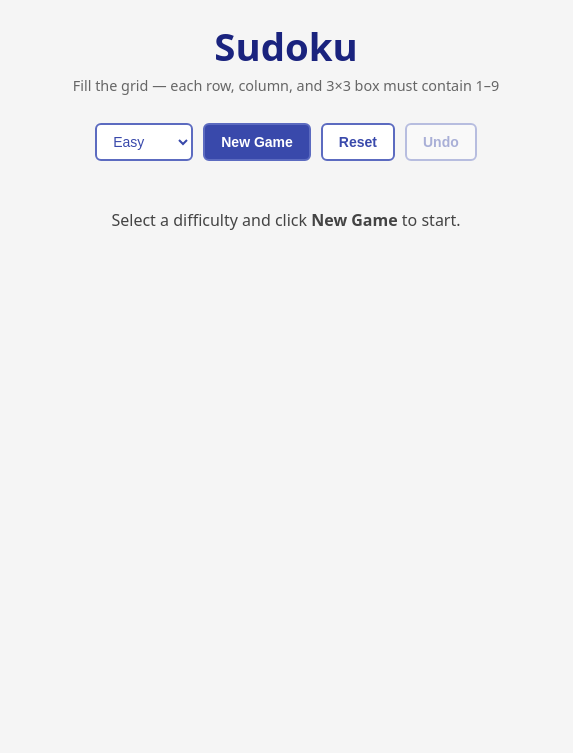
Test case: Undo reverts the last move › cell B is cleared after undo; cell A retains its value
The image size is (573, 753).
Note: Start a new game and wait for the grid to appear.
Click the button "New Game" at (257, 142), box [203,123,311,161]
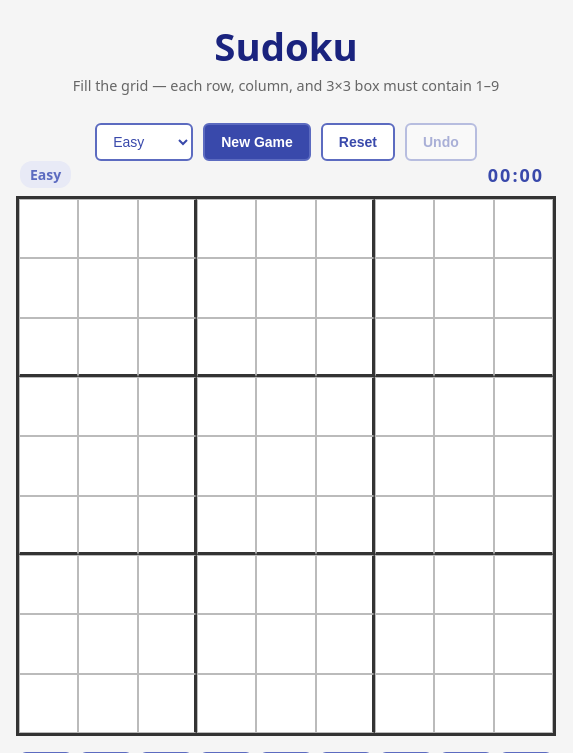
Note: Select cell A (Row 1, Col 1) and enter 5.
Click the cell named "Row 1 Column 1 empty" at (49, 229), box [19,199,78,258]
(page scrolled)
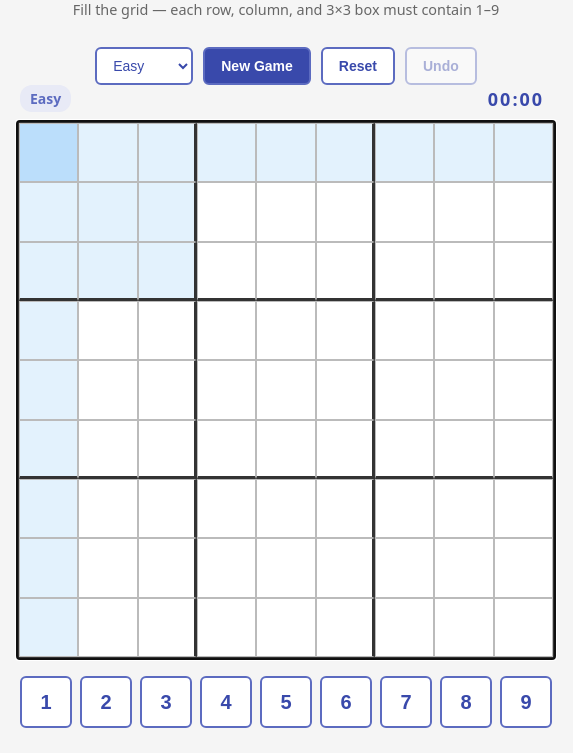
Click the button named "Enter 5" at (286, 702), box [260,676,312,728]
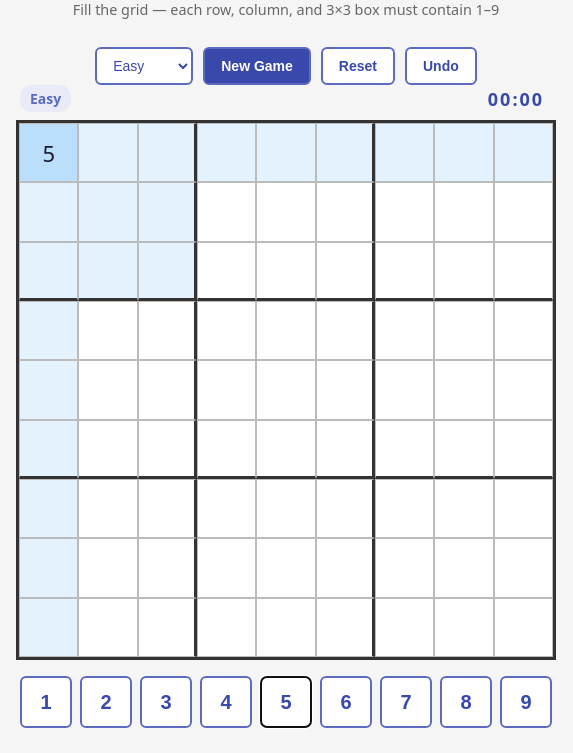
Note: Select cell B (Row 1, Col 2) and enter 7.
Click the cell named "Row 1 Column 2 empty" at (108, 153), box [78,123,138,182]
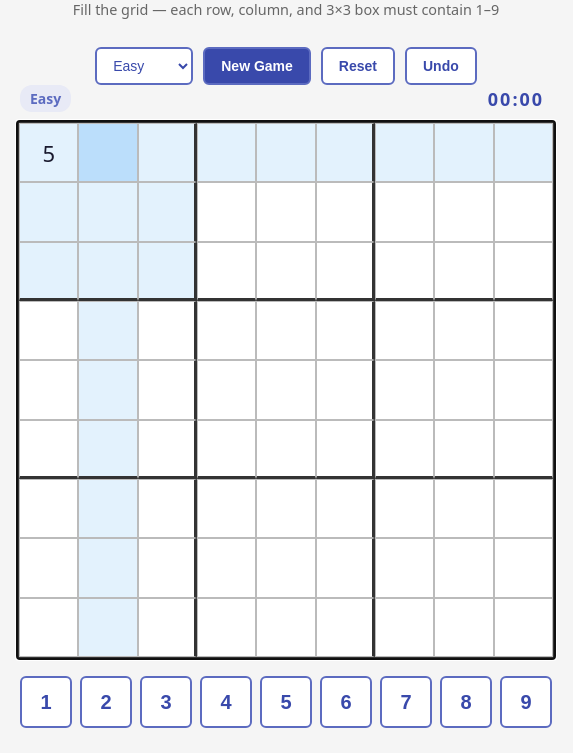
Click the button named "Enter 7" at (406, 702), box [380,676,432,728]
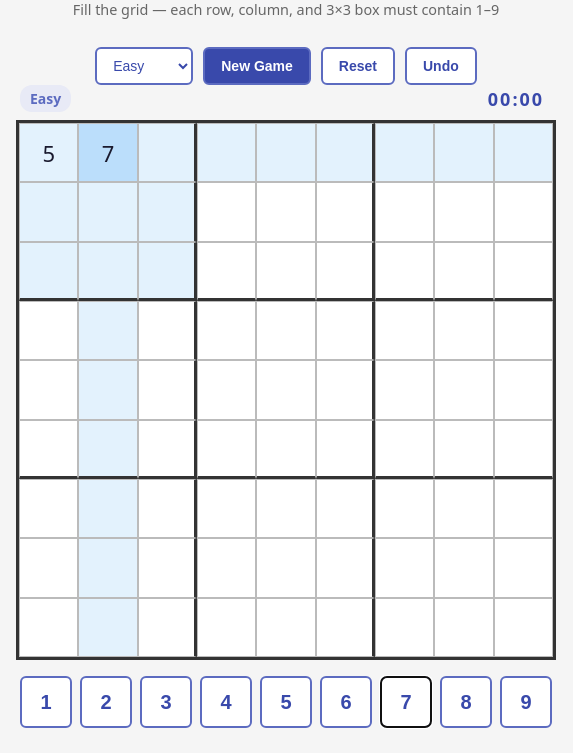
Now the cell named "Row 1 Column 1 value 5" is shown, box [19,123,78,182]
Now the cell named "Row 1 Column 2 value 7" is shown, box [78,123,138,182]
Click the button "Undo" at (441, 66), box [405,47,477,85]
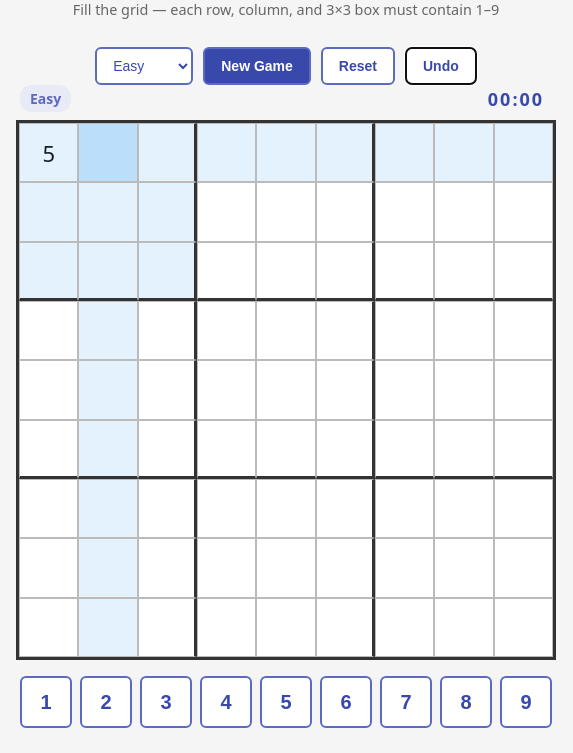
Now the cell named "Row 1 Column 1 value 5" is shown, box [19,123,78,182]
Now the cell named "Row 1 Column 2 empty" is shown, box [78,123,138,182]
